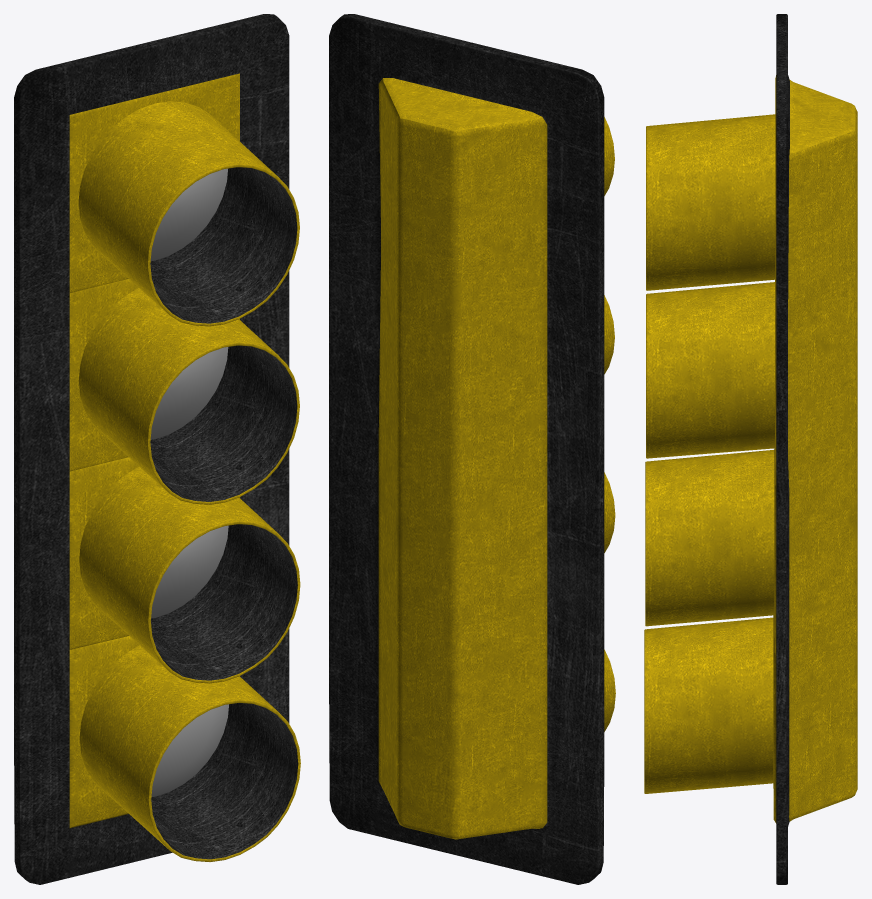
Rendered from TrafficSignalVerticalFullConeYellowBlack4.fbx.
3 views of the same model, side by side, from view 1: azimuth 30°, elevation 25°; view 2: azimuth 150°, elevation 25°; view 3: azimuth 270°, elevation 25° (orthographic). The views are drawn at different scales.
Visible parts, largest first — view 1: Casing, SignalLight1, SignalLight2, SignalLight3, SignalLight0; view 2: Casing; view 3: Casing.
Part boxes in pixels (box(x1,y1,x2,y2)): Casing: box(14, 14, 300, 884); SignalLight1: box(150, 347, 228, 439); SignalLight2: box(151, 525, 228, 618); SignalLight3: box(151, 704, 228, 796); SignalLight0: box(150, 168, 227, 261); Casing: box(329, 14, 615, 884); Casing: box(644, 14, 857, 884).
Size of the model in its own units: 0.6568 by 1.88 by 0.4767.
